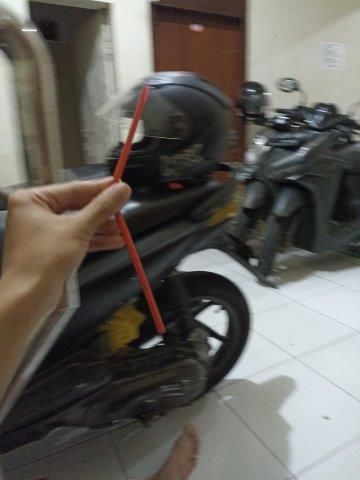sedotan: (109, 90, 166, 333)
